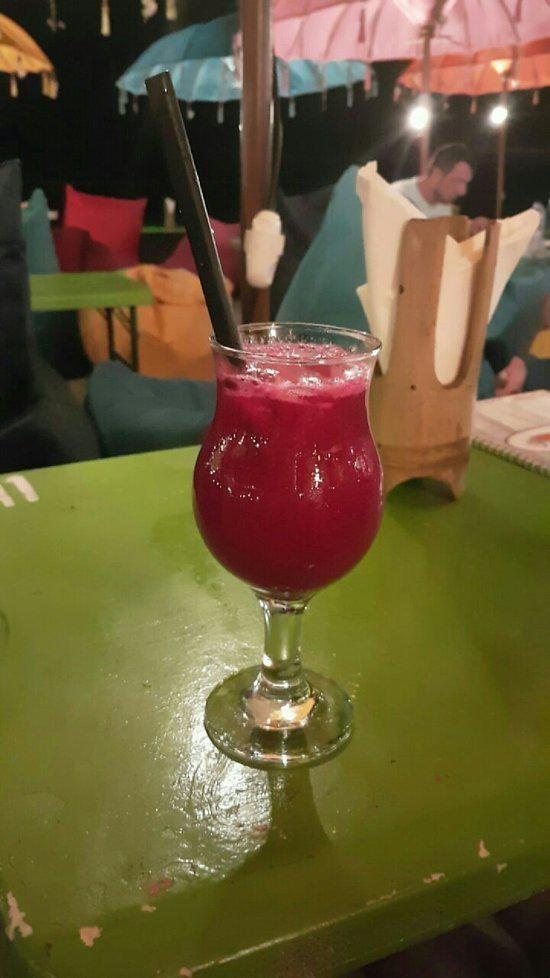glass-wine: (190, 319, 387, 770)
